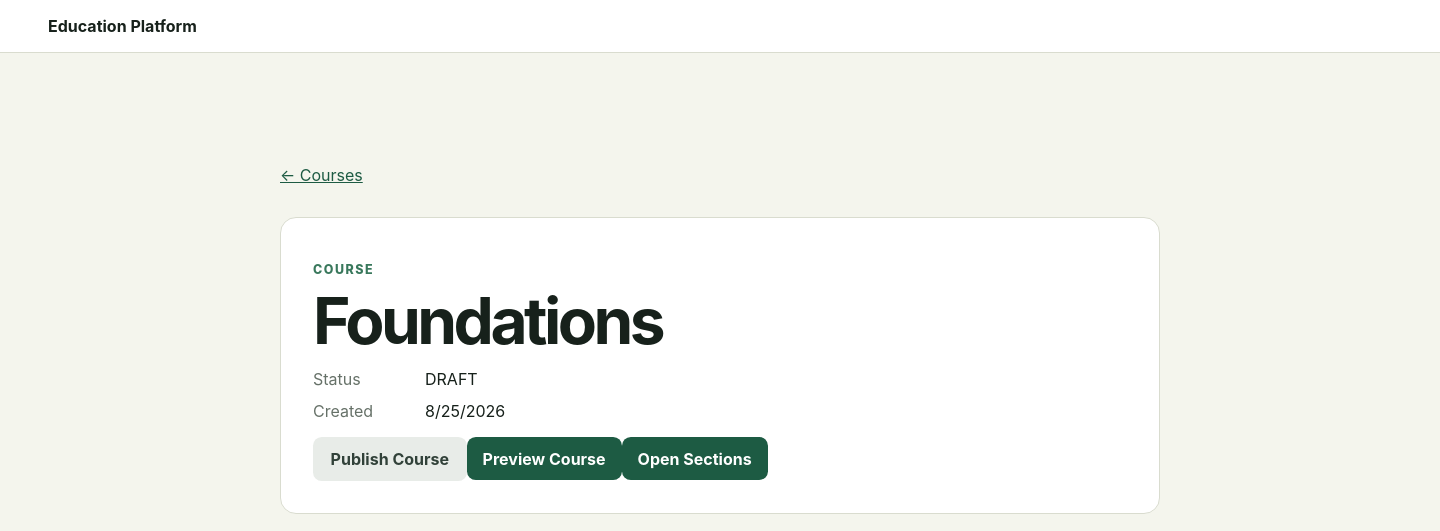
Test: Course UI › disables the action and shows a pending label while publishing
This screenshot has width=1440, height=531.
Click the button "Publish Course": {"x": 390, "y": 459} [313, 437, 467, 481]
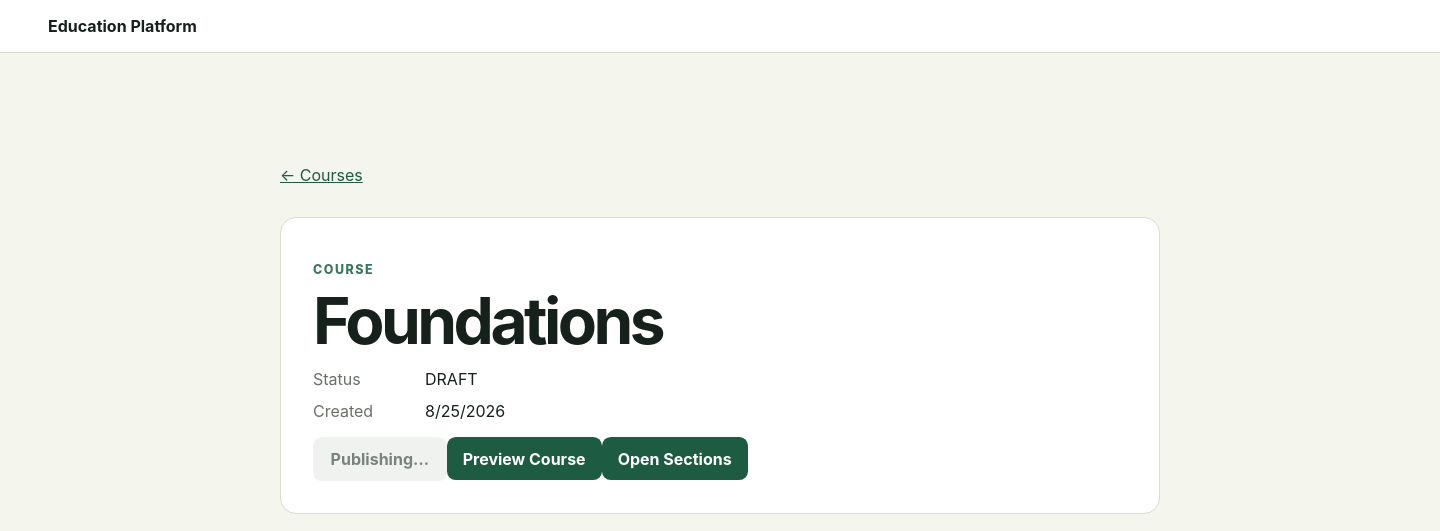
expect the button "Publishing…" is disabled: met, box [313, 437, 447, 481]
